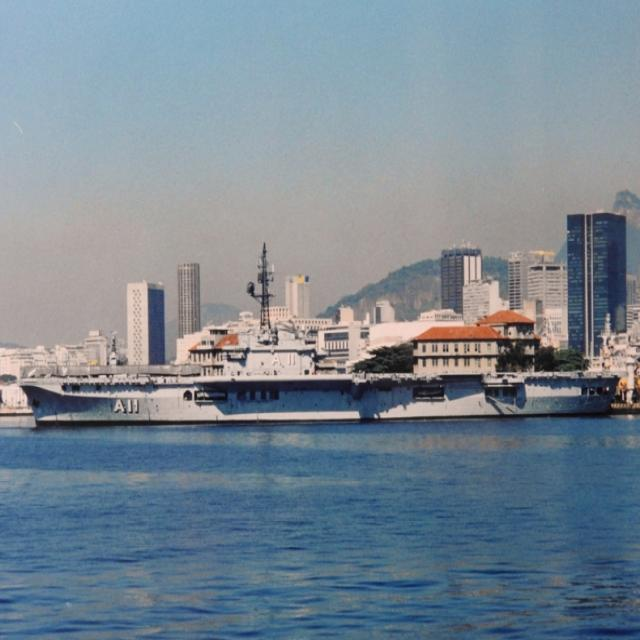Portanaves: (16, 245, 626, 437)
